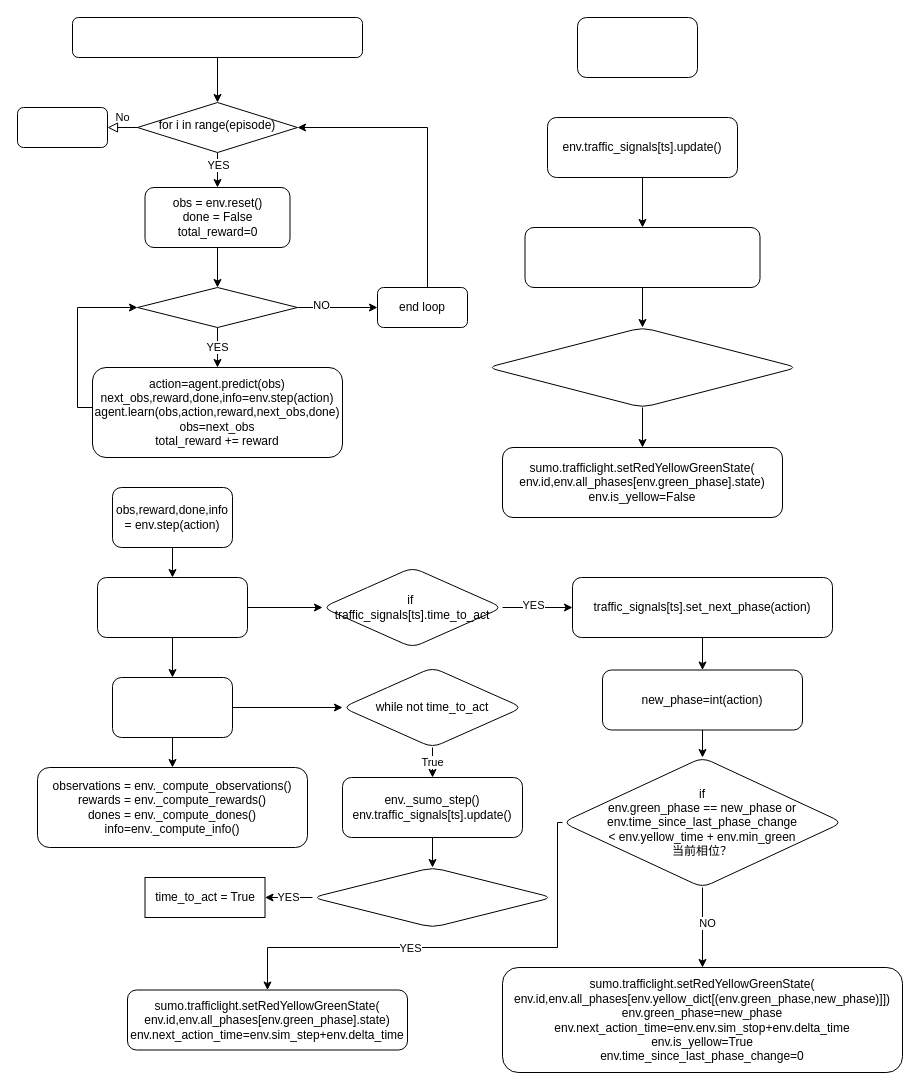
The diagram is 920 pixels wide and 1090 high, and some of its shapes have lost their labels. The shapes that lost their labels are listed below. From the top down, each one's box as (x1, y1, x2, y2) in pixels, then its label:
(72, 16, 362, 58): env=createSumoEnv() agent=MyAgent(env.obs_space,env.act_space)
(576, 16, 698, 78): action = agent.predict(obs)
(16, 106, 108, 148): agent.save()
(524, 226, 760, 288): env.time_since_last_phase_change += 1
(136, 286, 298, 328): while not done
(486, 326, 798, 408): if env.is_yellow_time and env.time_since_last_phase_change = env.yellow_time
(96, 576, 248, 638): env._apply_actions(action)
(112, 676, 232, 738): env._run_steps()
(312, 866, 552, 928): if env.traffic_signals[ts].time_to_act
